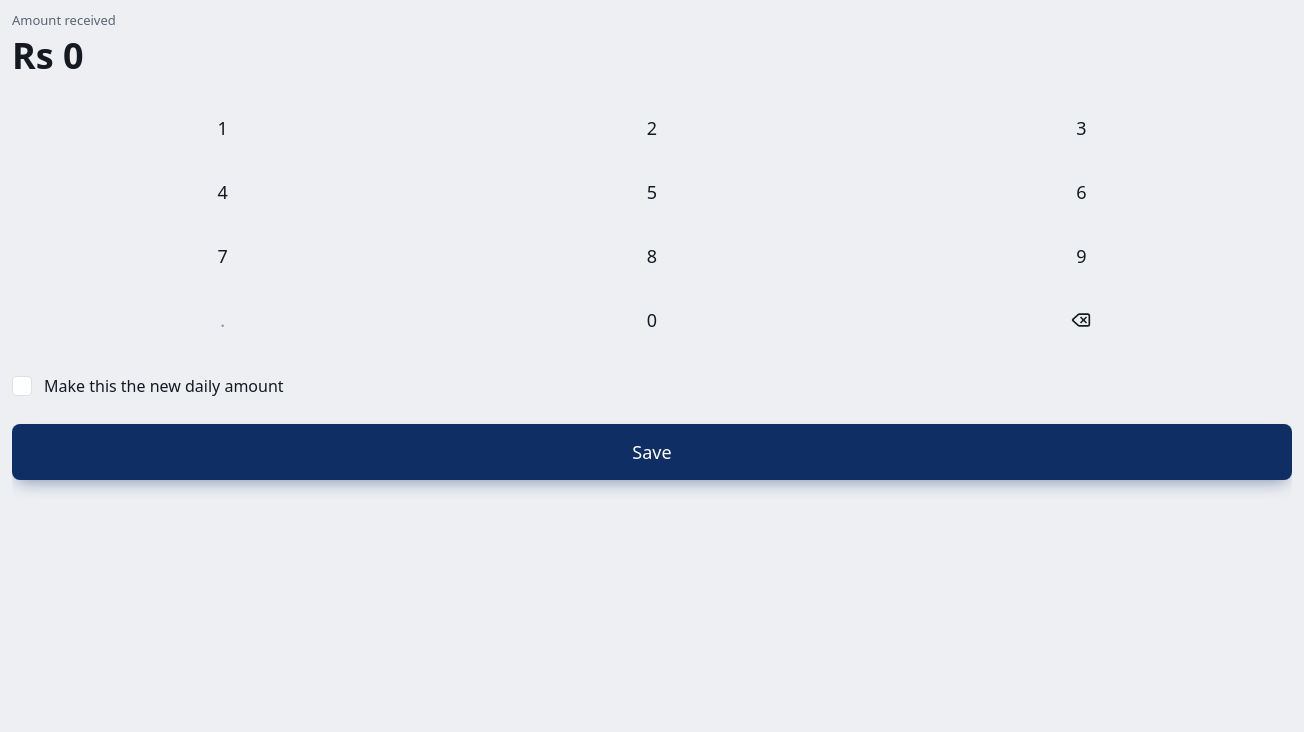
Scenario: the effective-date slot only appears once the checkbox is checked
expect the text "30 Jul" is not shown: met
Click the checkbox named "Make this the new daily amount": {"x": 22, "y": 386} [12,376,32,396]
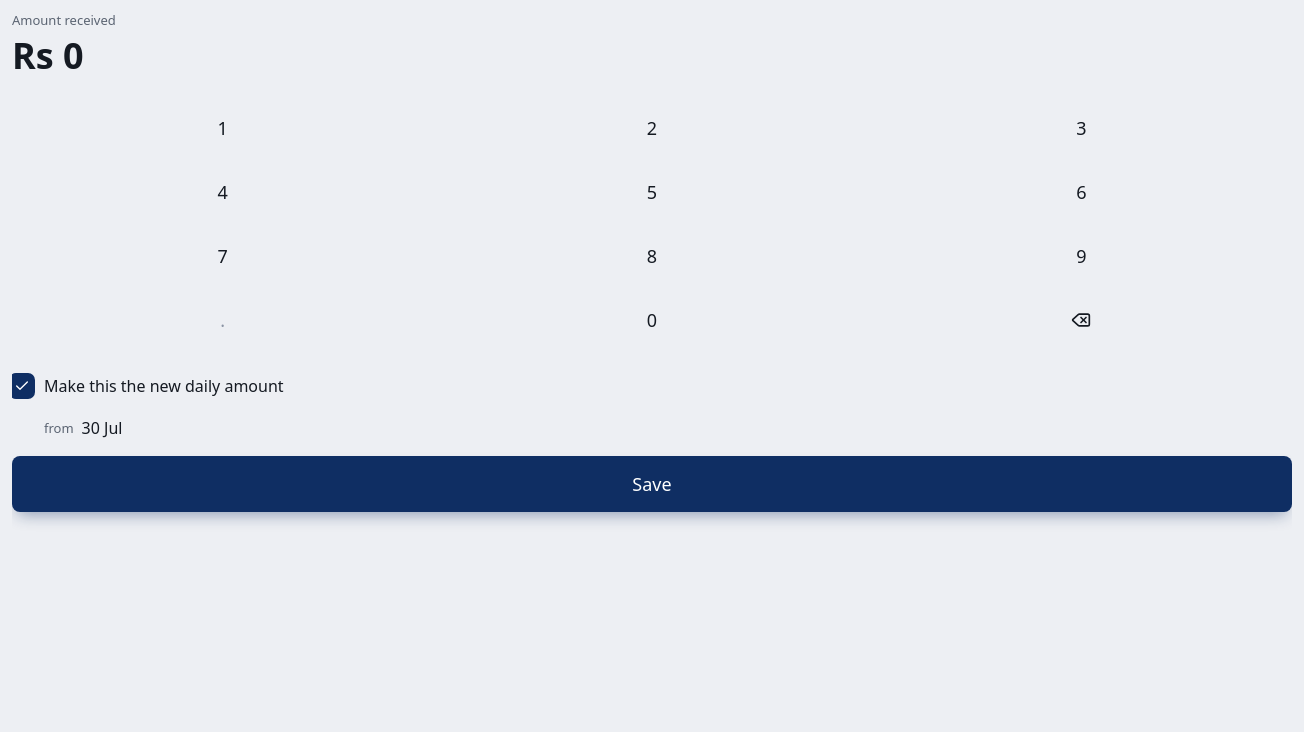
expect the text "30 Jul" is shown: met, box [82,416,122,440]
